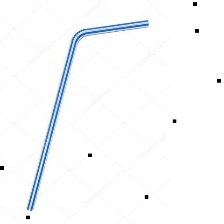drinking_straw: (20, 14, 153, 215)
